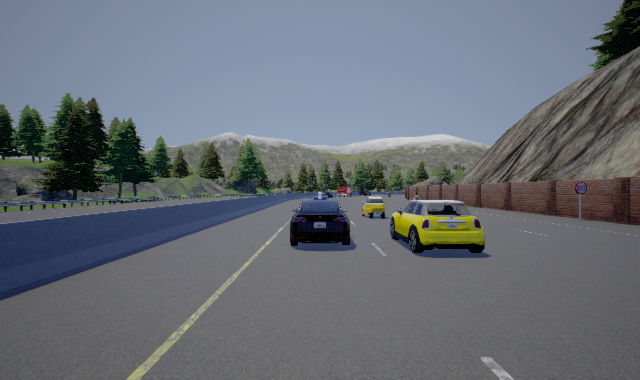traffic_sign: (575, 182, 587, 194)
vehicle: (390, 198, 485, 253), (290, 191, 350, 246), (359, 189, 385, 219)
